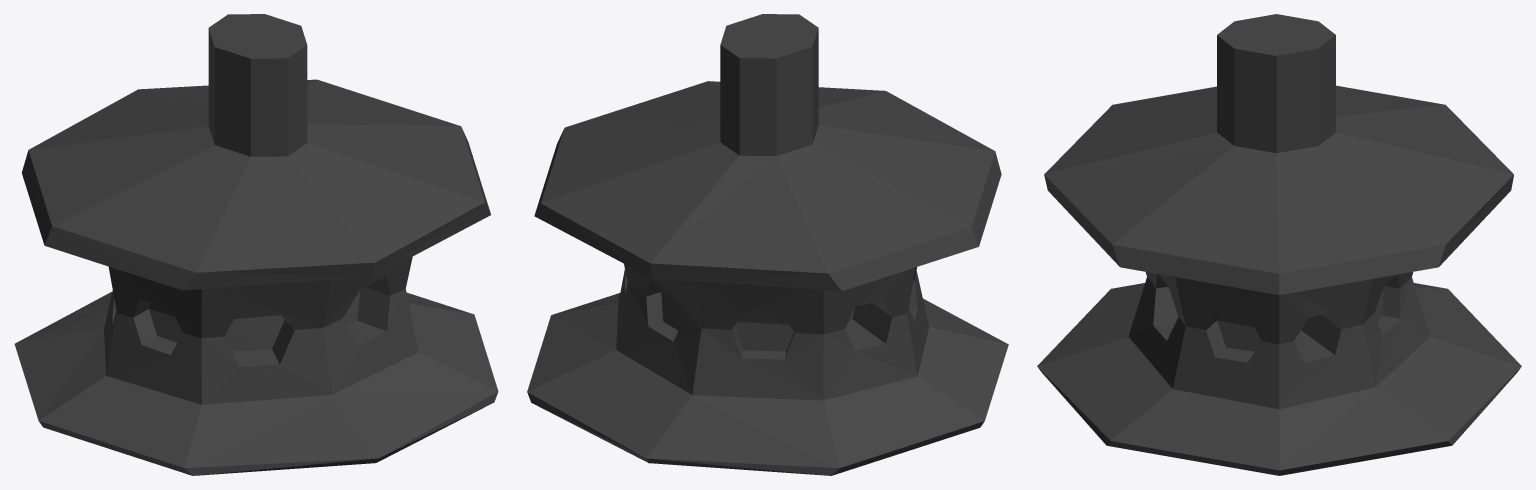
Rendered from bossconon.obj.
The picture shows the model from 3 angles, left to right: view 1: azimuth 30°, elevation 25°; view 2: azimuth 150°, elevation 25°; view 3: azimuth 270°, elevation 25°; orthographic projection.
Parts seen in each view (by area): view 1: 円; view 2: 円; view 3: 円.
Part boxes in pixels (bbox=[...]): 円: bbox=[14, 14, 498, 475]; 円: bbox=[527, 14, 1008, 475]; 円: bbox=[1037, 14, 1521, 475].
Size of the model in its own units: 1.37 by 1.02 by 1.33.
1 material, 1 textured.
